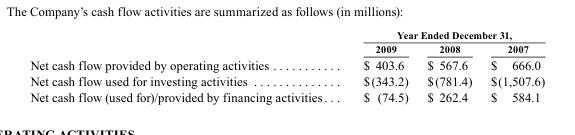table: (29, 29, 544, 103)
table column: (29, 29, 342, 103), (342, 29, 417, 103), (480, 29, 544, 103), (417, 29, 480, 103)
table column header: (29, 29, 544, 55)
table row: (29, 55, 544, 72), (29, 72, 544, 88), (29, 88, 544, 103), (29, 41, 544, 55), (29, 29, 544, 41)
table spanning cell: (342, 29, 544, 41)
